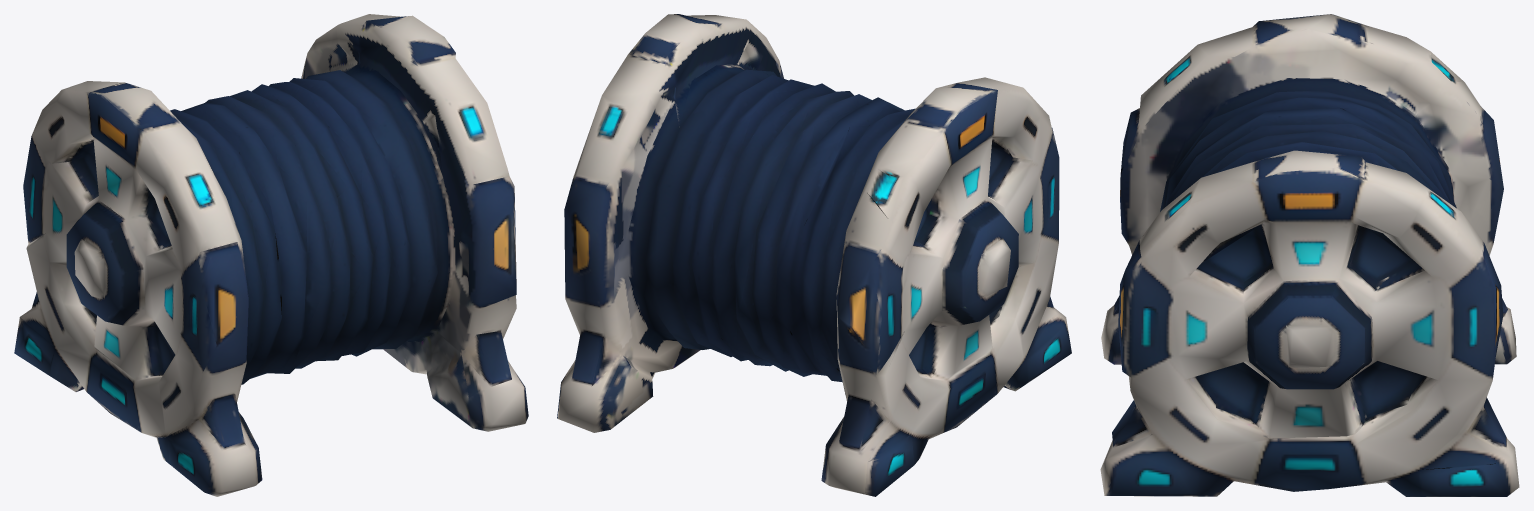
The model's file is industrial-cable-spool_LOD1.glb.
3 renders of one model, left to right at view 1: azimuth 30°, elevation 25°; view 2: azimuth 150°, elevation 25°; view 3: azimuth 270°, elevation 25°, orthographic.
Parts seen in each view (by area): view 1: industrial-cable-spool_LOD1; view 2: industrial-cable-spool_LOD1; view 3: industrial-cable-spool_LOD1.
Boxes of the visible parts, x1=… form: industrial-cable-spool_LOD1: x1=14, y1=14, x2=528, y2=496; industrial-cable-spool_LOD1: x1=557, y1=14, x2=1071, y2=496; industrial-cable-spool_LOD1: x1=1100, y1=14, x2=1519, y2=496.
Bounding box in the file's own units: 1.31 × 1.1 × 1.25.
1 material, 1 textured.
